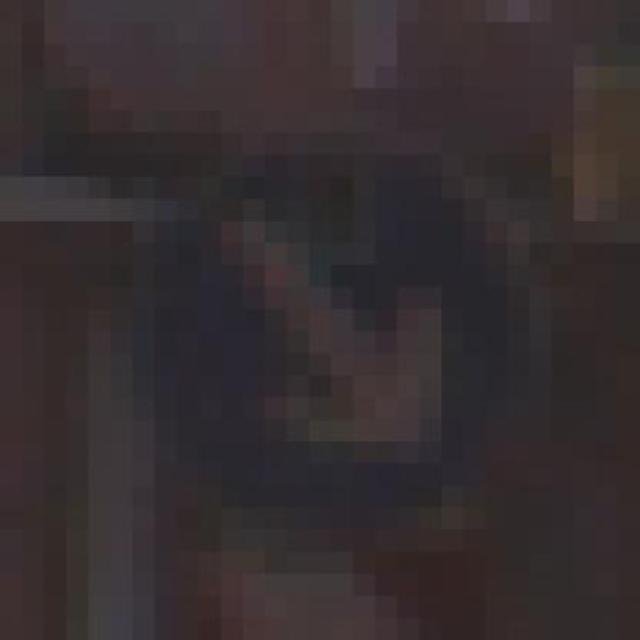Keep-Right: (110, 110, 552, 530)
